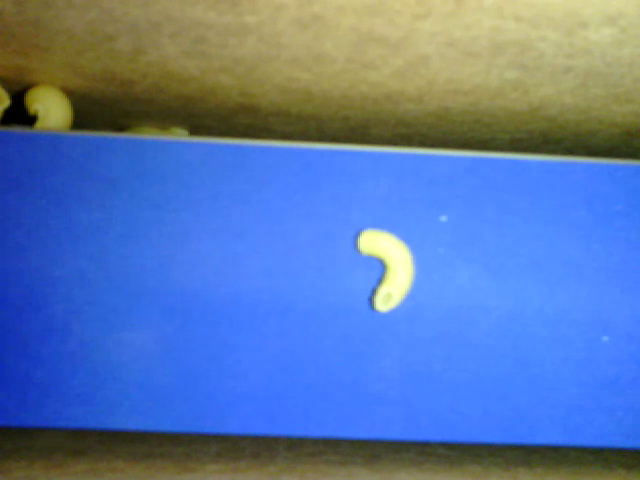elbow: (359, 228, 418, 316)
shell: (24, 86, 74, 138)
